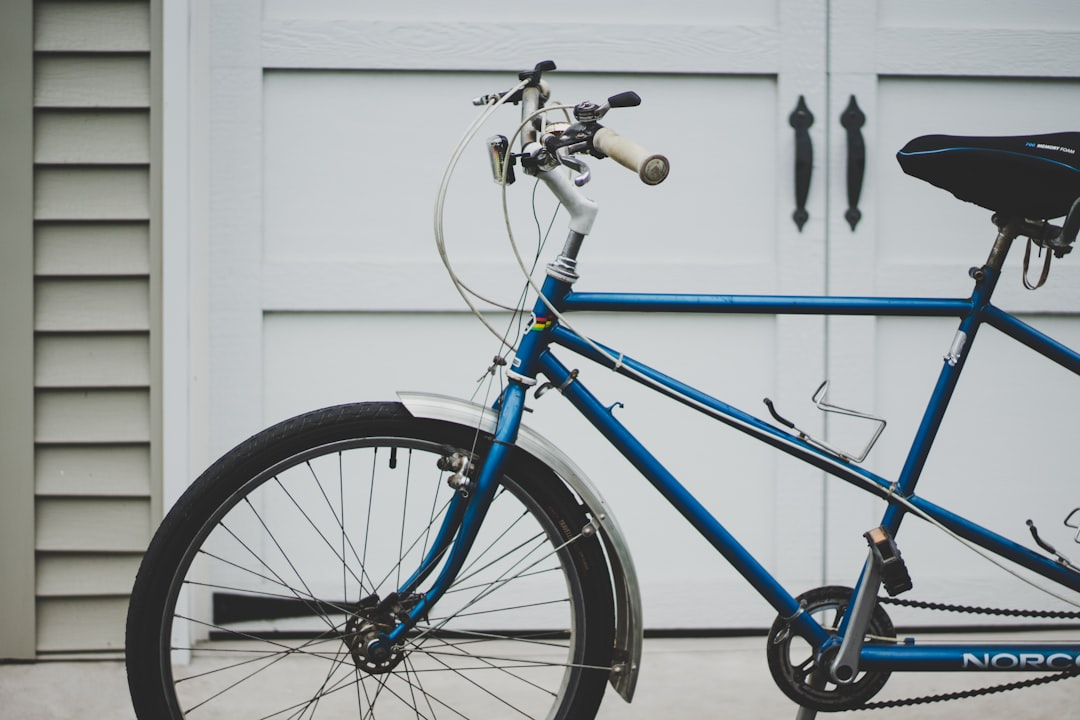bicycle: (123, 61, 1080, 720)
